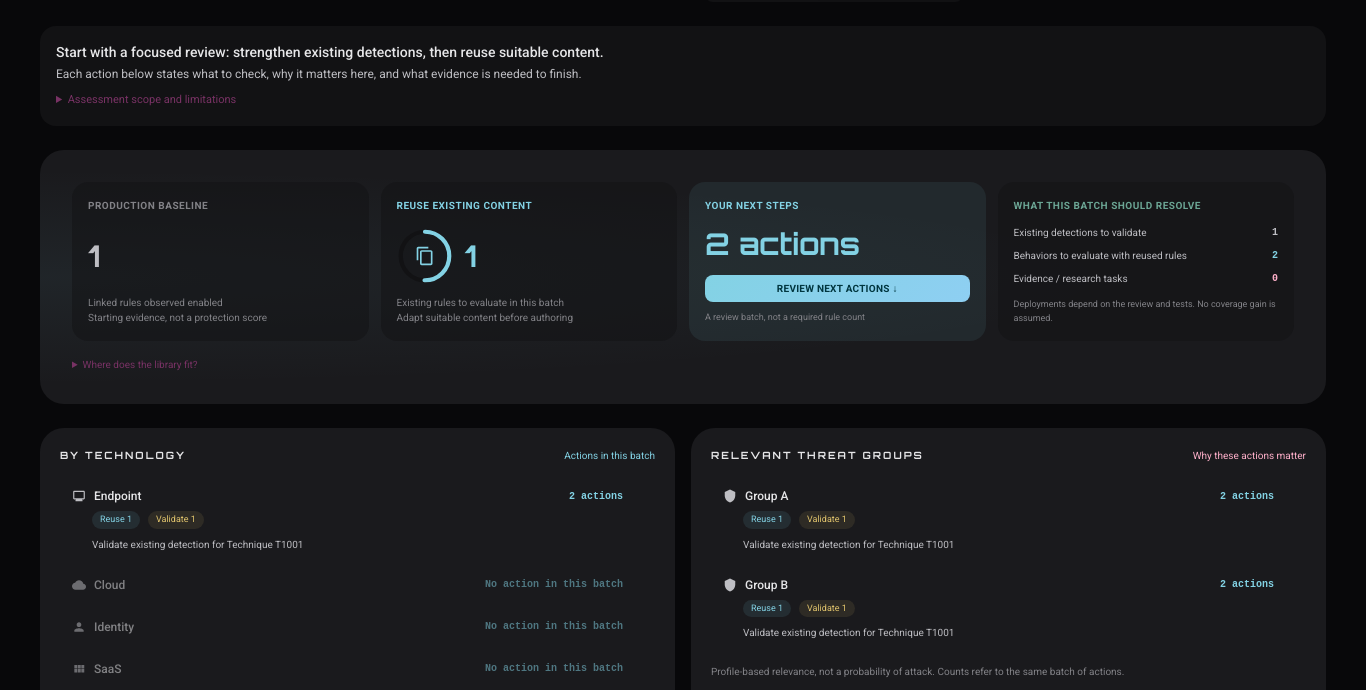
Test case: assessment presents actions and evidence in the original design language › filters the same batch by technology and lets users change the batch without changing production
Click the button with aria-label "Endpoint: 2 actions": (118, 496) [60,475,655,564]
(page scrolled)
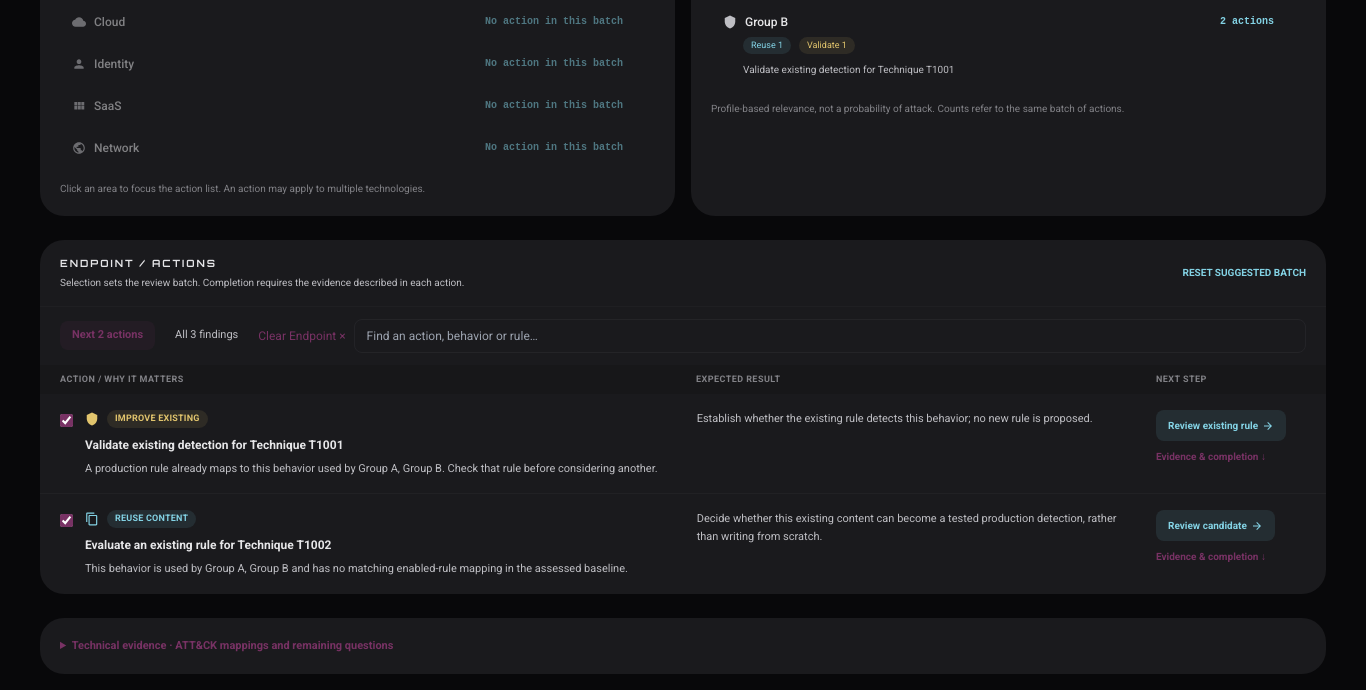
Click the checkbox named "Plan: Evaluate": (66, 521) [60,514,73,527]
(page scrolled)
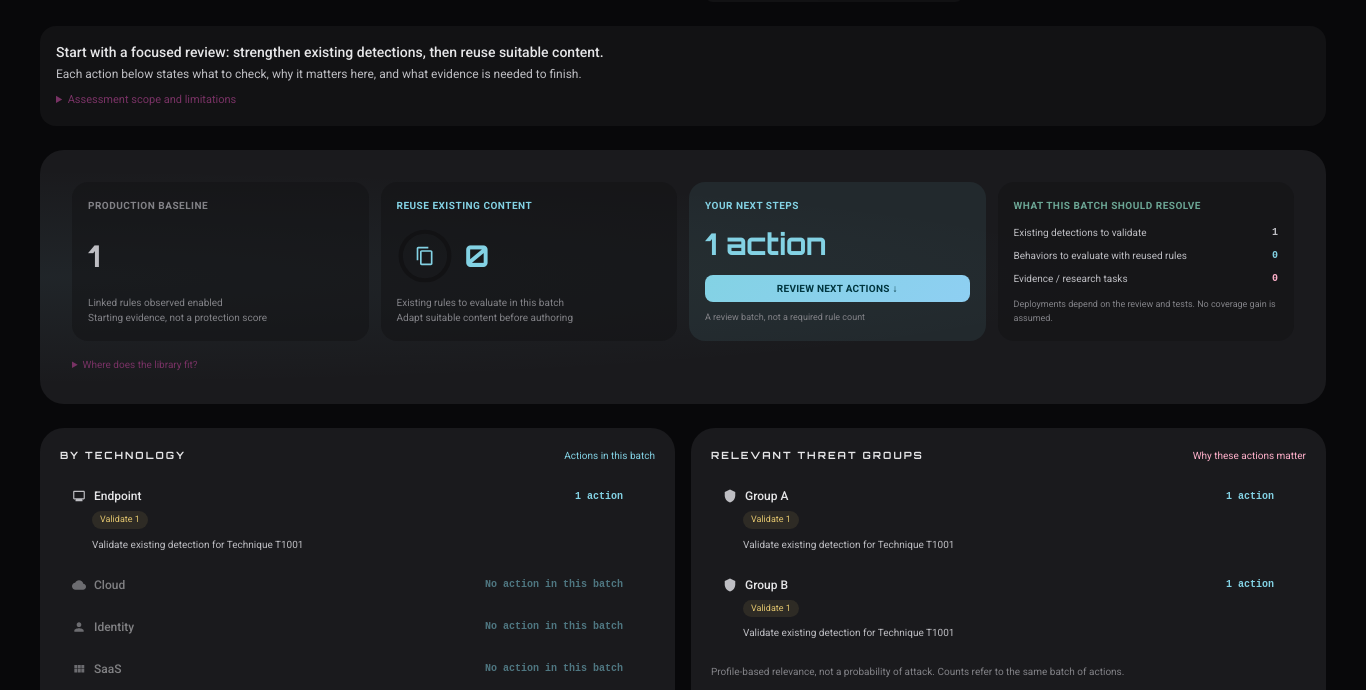
Expected: the text "1 action" below "Your next steps" is shown, [705,225,827,262]
